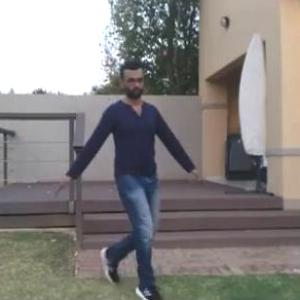land: (58, 66, 191, 286)
